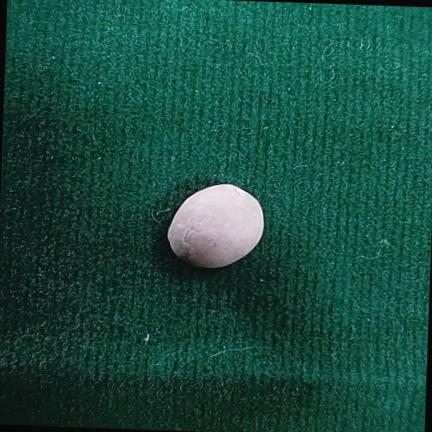immature: (168, 184, 263, 268)
